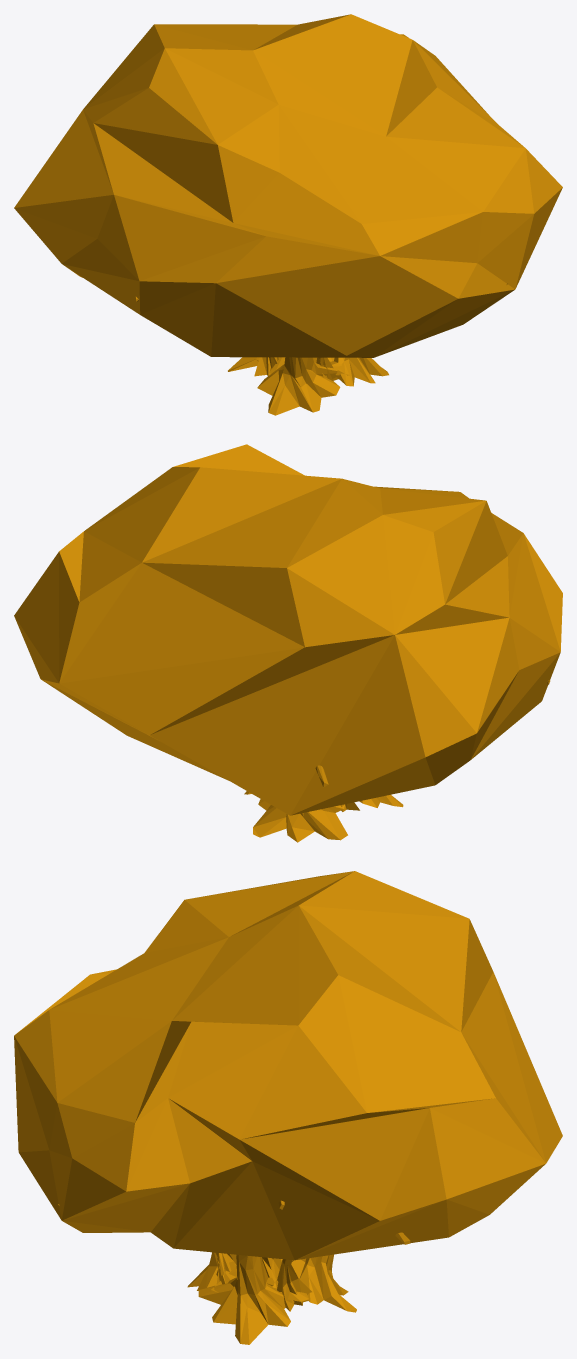
The model's file is large-tree.fbx.
3 renders of one model, top to bottom at view 1: azimuth 30°, elevation 25°; view 2: azimuth 150°, elevation 25°; view 3: azimuth 270°, elevation 25°, orthographic. The views are drawn at different scales.
Parts seen in each view (by area): view 1: Hedra001, Foliage004; view 2: Hedra001, Foliage004; view 3: Hedra001, Foliage004.
Part boxes in pixels (left/top/right/bottom): Hedra001: left=14, top=14, right=562, bottom=357; Foliage004: left=136, top=283, right=507, bottom=415; Hedra001: left=14, top=444, right=562, bottom=815; Foliage004: left=244, top=680, right=550, bottom=842; Hedra001: left=14, top=871, right=562, bottom=1260; Foliage004: left=58, top=1200, right=410, bottom=1344.
Size of the model in its own units: 945 by 705 by 929.
